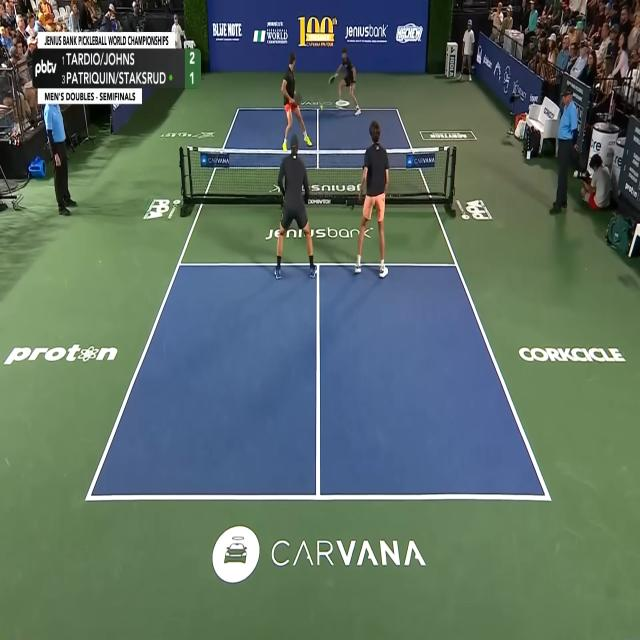ball: (320, 104, 323, 111)
